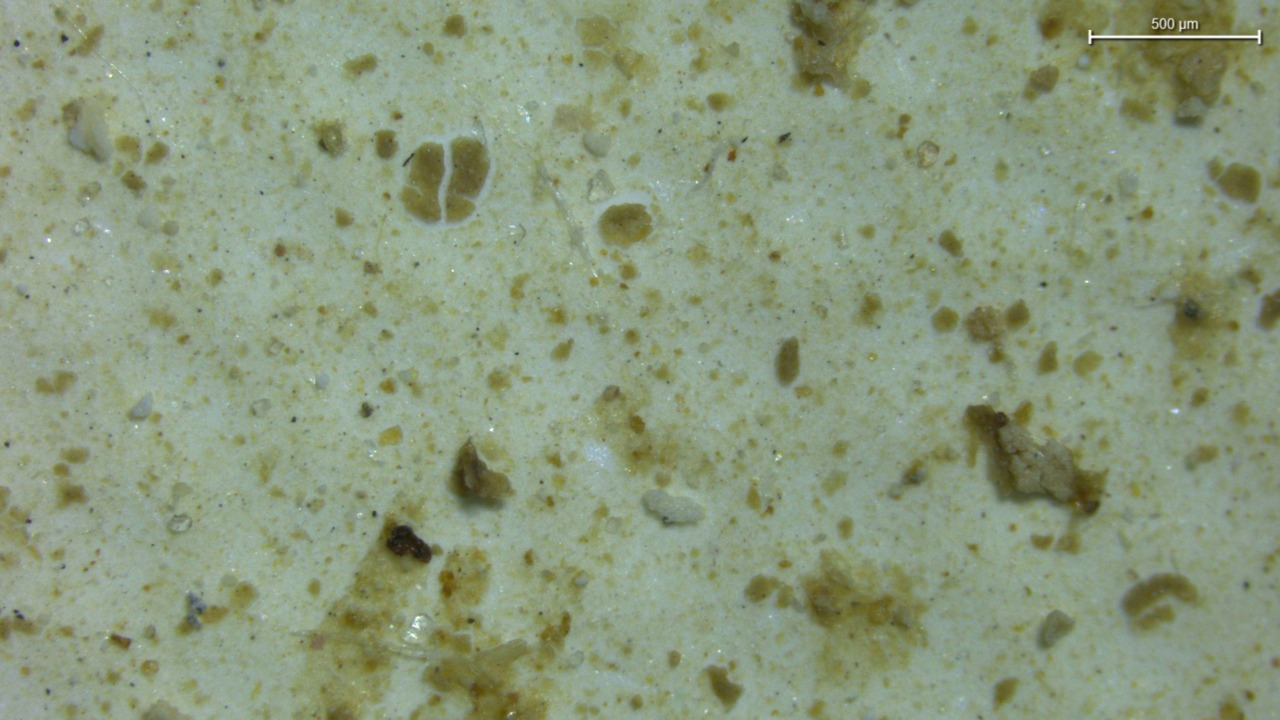microplastic_fragment: (62, 98, 113, 162), (642, 489, 703, 524), (583, 131, 611, 157), (128, 394, 152, 420)
